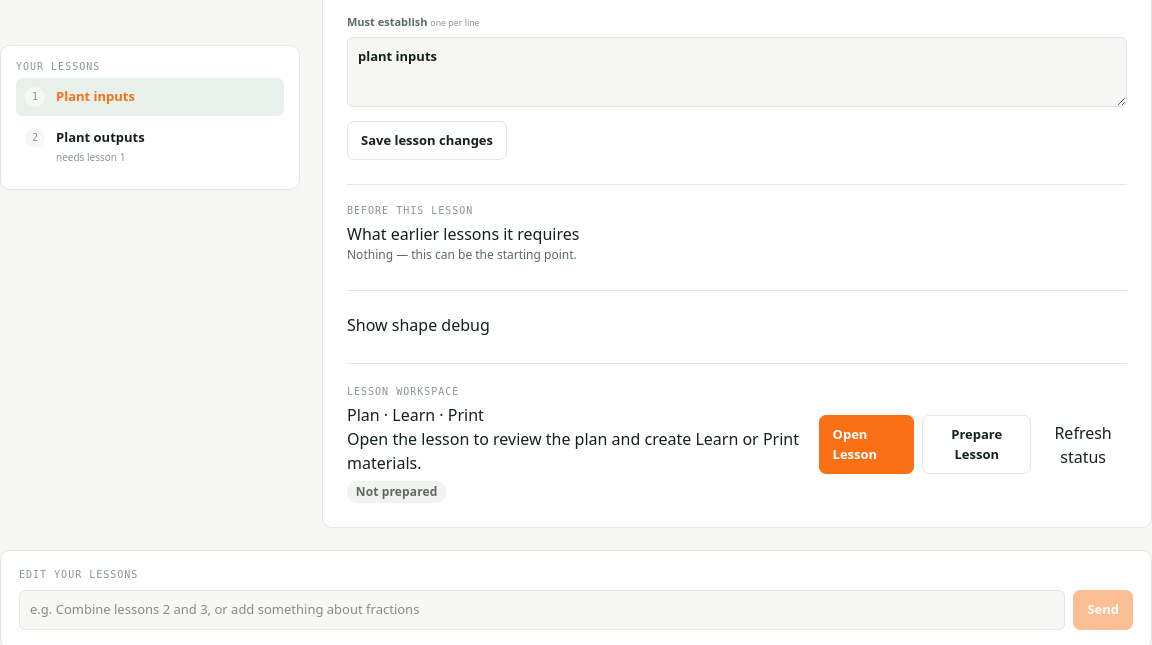
Test: /units/[id] › defaults the mode dropdown to the lesson mode and follows lesson selection
(page scrolled)
Click the button "Show shape debug": (418, 325) left=347, top=313, right=490, bottom=337
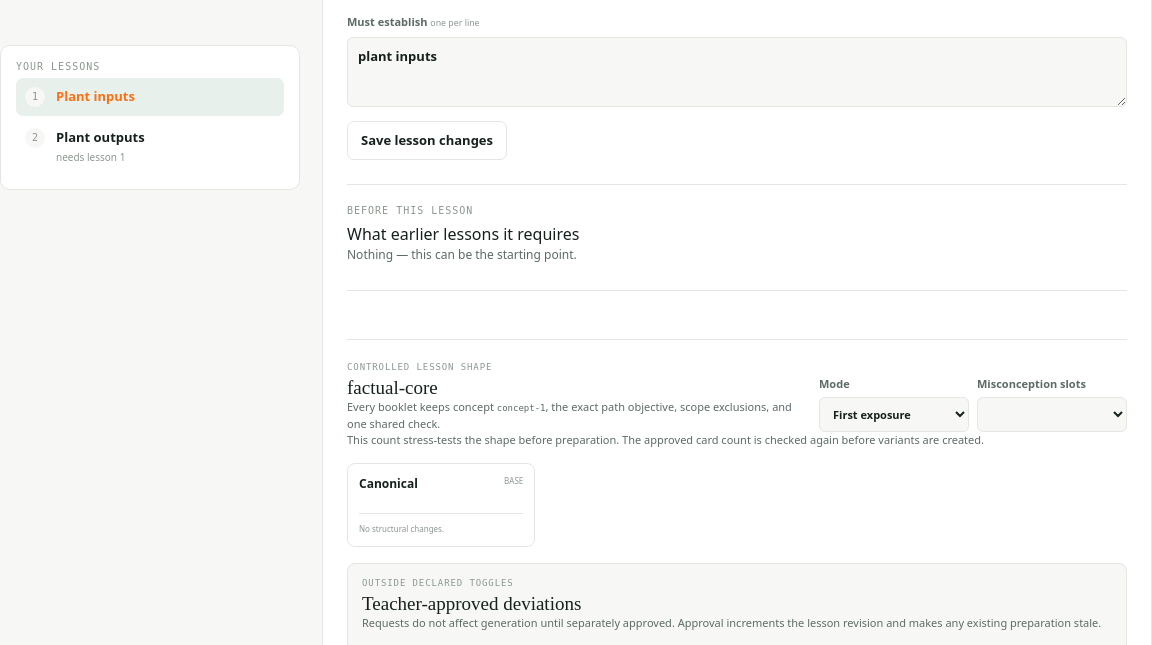
Now the dropdown labelled "Mode" shows "First exposure", box left=819, top=397, right=969, bottom=432
Click the button "2 Plant outputs needs lesson 1": (100, 137) left=16, top=119, right=284, bottom=174
(page scrolled)
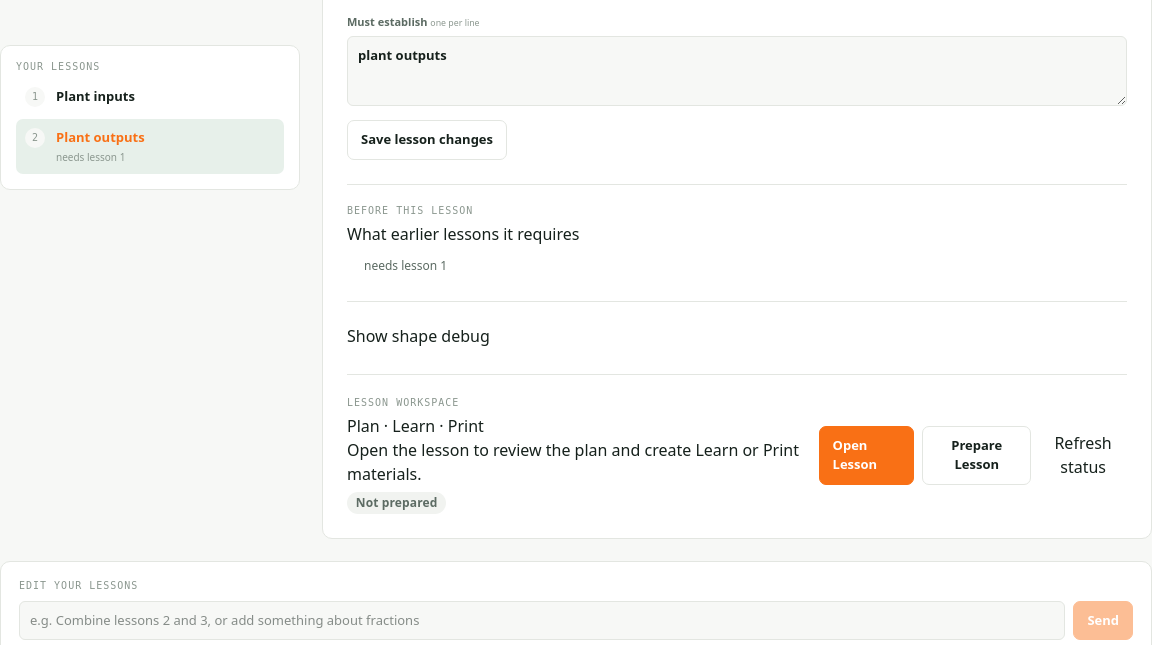
Click the button "Show shape debug": (418, 336) left=347, top=324, right=490, bottom=348
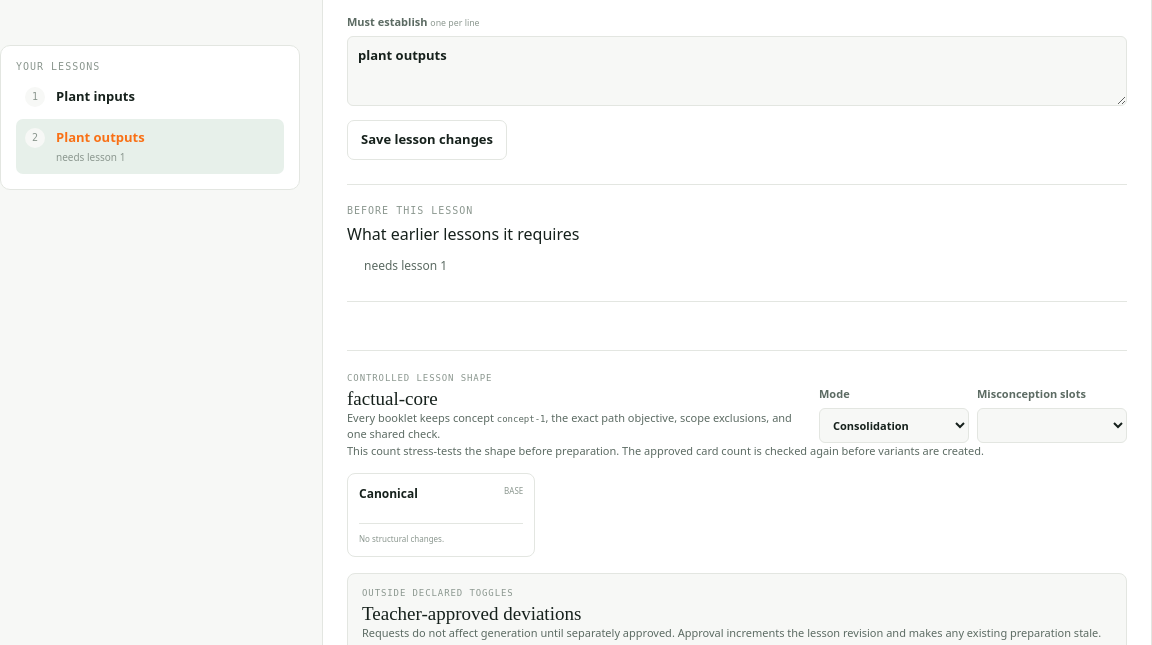
Now the dropdown labelled "Mode" shows "Consolidation", box left=819, top=408, right=969, bottom=443
Click the button "1 Plant inputs": (95, 96) left=16, top=78, right=284, bottom=116
(page scrolled)
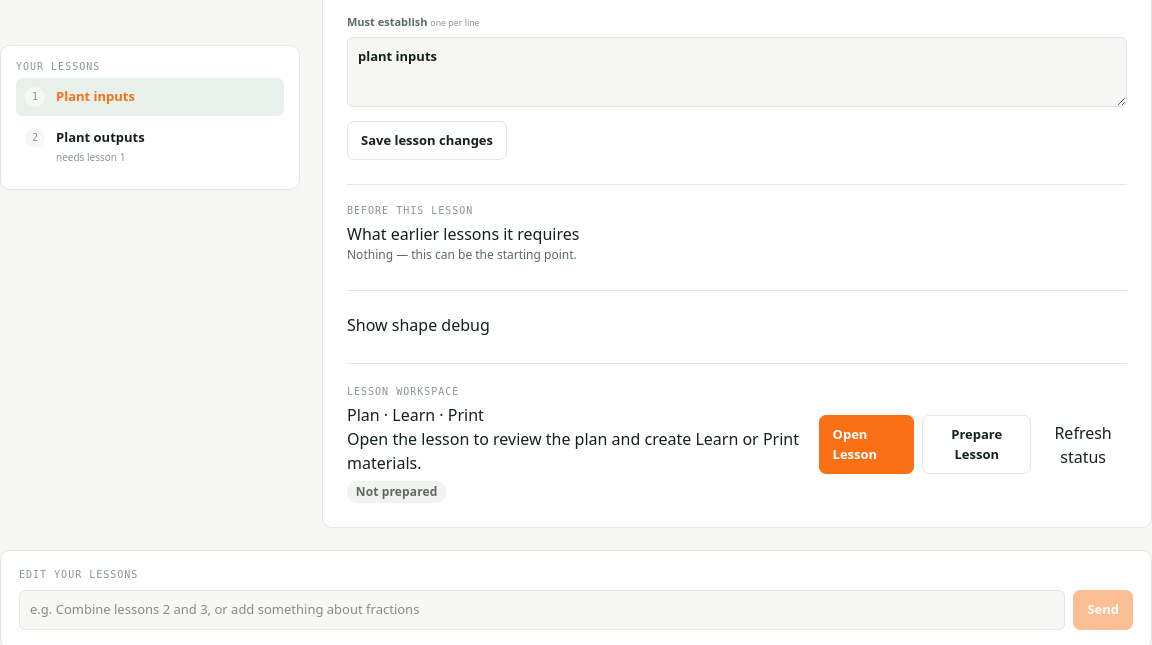
Click the button "Show shape debug": (418, 325) left=347, top=313, right=490, bottom=337
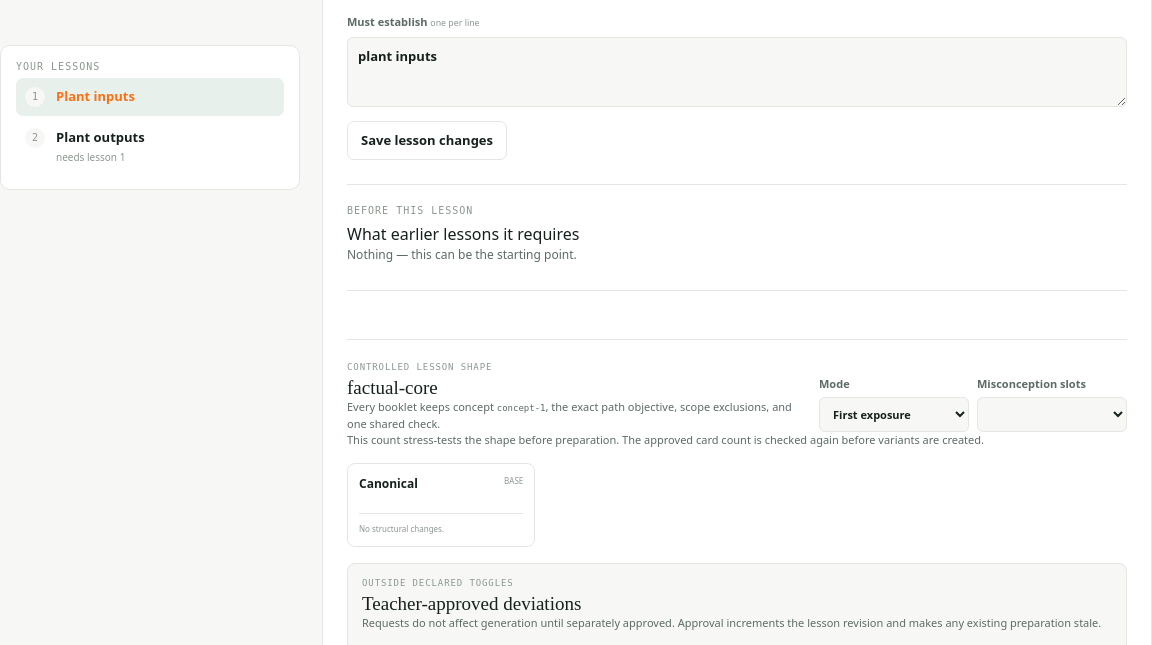
Now the dropdown labelled "Mode" shows "First exposure", box left=819, top=397, right=969, bottom=432
